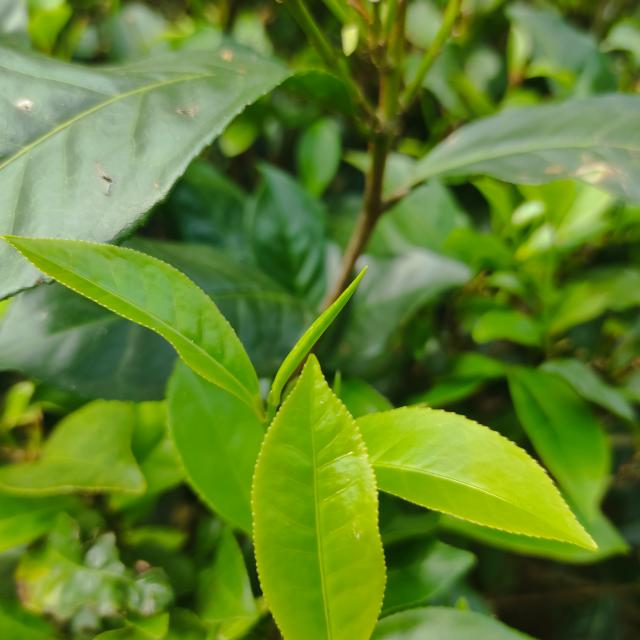unopened_leaf: (264, 256, 376, 411)
